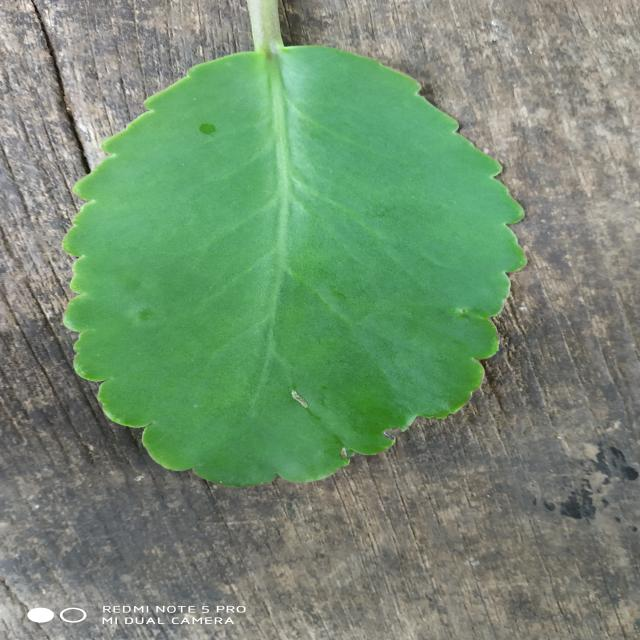spinach: (64, 46, 524, 486)
